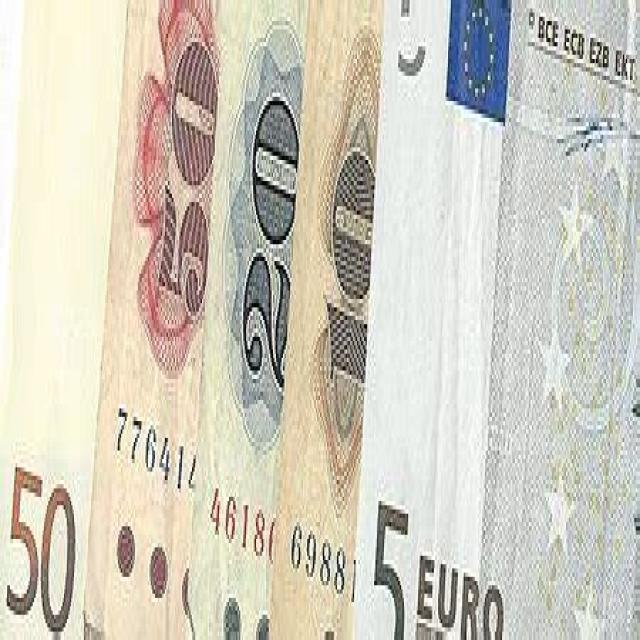banknote: (350, 0, 638, 640), (84, 5, 222, 640), (0, 0, 130, 640), (188, 0, 311, 636), (270, 5, 388, 634), (242, 74, 307, 428), (320, 134, 401, 404), (154, 25, 222, 332), (4, 439, 80, 640), (362, 481, 414, 640)
